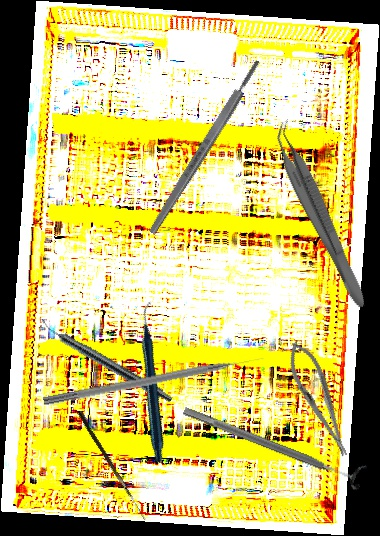Fixation Ring: (179, 396, 368, 493)
Handpiece: (79, 300, 230, 465), (36, 316, 176, 406)
Hook Surgical: (75, 410, 151, 521)
Needle Holder: (279, 336, 359, 463)
Pusher: (42, 353, 266, 409)
Scalpel Handle: (146, 58, 264, 236)
Tissue Forceps: (263, 118, 379, 311)
